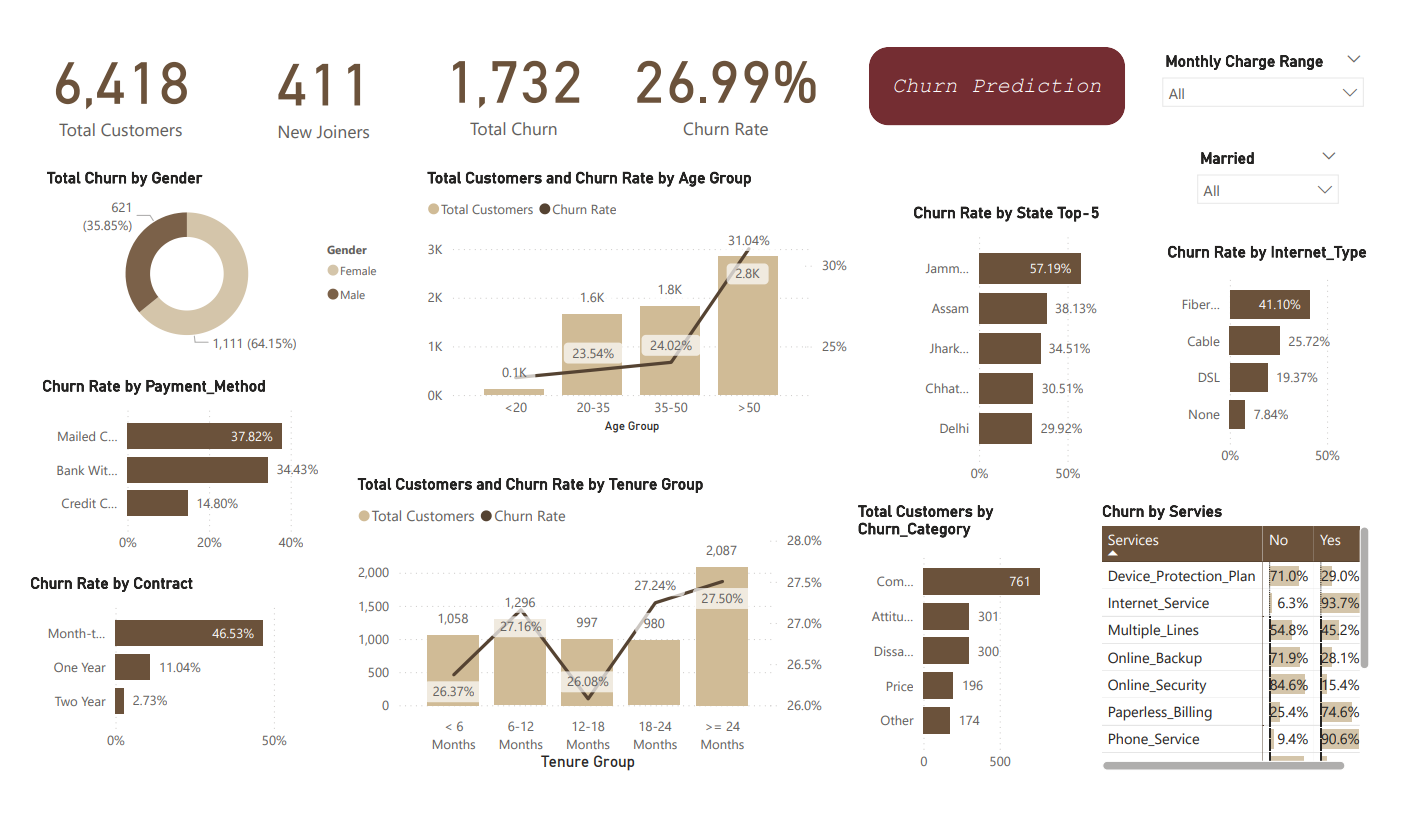

Layout of this report page (visuals, bound fields, positions):
{"tool":"powerbi","page":{"name":"Summary","canvas":[1280,720],"ordinal":0},"visuals":[{"type":"card","fields":{"Values":["tbl_Measures.Total Customers"]},"box":[20,15.7,175.7,104.3],"z":0},{"type":"card","fields":{"Values":["tbl_Measures.New Joiners"]},"box":[204.3,18.6,180,101.4],"z":1000},{"type":"card","fields":{"Values":["tbl_Measures.Total Churn"]},"box":[384.3,14.3,168.6,105.7],"z":2000},{"type":"donutChart","fields":{"Category":["prod_Churn.Gender"],"Y":["tbl_Measures.Total Churn"]},"box":[35,142.5,322.5,175],"z":3000},{"type":"lineStackedColumnComboChart","fields":{"Category":["mapping_AgeGrp.Age Group"],"Y":["tbl_Measures.Total Customers"],"Y2":["tbl_Measures.Churn Rate"]},"box":[383.8,142.5,395,247.5],"z":4000},{"type":"clusteredBarChart","fields":{"Category":["prod_Churn.Payment_Method"],"Y":["tbl_Measures.Churn Rate"]},"box":[31.2,333.8,280,170],"z":5000},{"type":"clusteredBarChart","fields":{"Category":["prod_Churn.Contract"],"Y":["tbl_Measures.Churn Rate"]},"box":[20,515,280,170],"z":6000},{"type":"lineStackedColumnComboChart","fields":{"Category":["mapping_TenureGroup.Tenure Group"],"Y":["tbl_Measures.Total Customers"],"Y2":["tbl_Measures.Churn Rate"]},"box":[320,423.8,436.2,276.2],"z":7000},{"type":"clusteredBarChart","title":"Churn Rate by State Top-5","fields":{"Category":["prod_Churn.State"],"Y":["tbl_Measures.Churn Rate"]},"box":[830,175,210,265],"z":8000},{"type":"clusteredBarChart","fields":{"Category":["prod_Churn.Churn_Category"],"Y":["tbl_Measures.Total Customers"]},"box":[778.8,448.8,210,255],"z":9000},{"type":"clusteredBarChart","fields":{"Category":["prod_Churn.Internet_Type"],"Y":["tbl_Measures.Churn Rate"]},"box":[1062.5,211.2,195,212.5],"z":10000},{"type":"card","fields":{"Values":["tbl_Measures.Churn Rate"]},"box":[570,14.3,185.7,105.7],"z":11000},{"type":"pivotTable","title":"Churn by Servies","fields":{"Rows":["prod_Services.Services"],"Columns":["prod_Services.Status"],"Values":["Sum(prod_Services.Churn Status)"]},"box":[1002.5,448.8,255,251.2],"z":12000},{"type":"slicer","fields":{"Values":["prod_Churn.Monthly Charge Status"]},"box":[1052.5,31.2,205,71.2],"z":13000},{"type":"slicer","fields":{"Values":["prod_Churn.Married"]},"box":[1085,120,150,68.8],"z":14000},{"type":"shape","box":[794.3,31.4,234.3,71.4],"z":15000}]}

Visuals, with their boxes in screenshot pixels (x1, y1, x2, y2), scaled from the page's 1280x720 canvas onto the 1412x815 screenshot:
card - tbl_Measures.Total Customers: (22,18,216,136)
card - tbl_Measures.New Joiners: (225,21,424,136)
card - tbl_Measures.Total Churn: (424,16,610,136)
donutChart - prod_Churn.Gender x tbl_Measures.Total Churn: (39,161,394,359)
lineStackedColumnComboChart - mapping_AgeGrp.Age Group x tbl_Measures.Total Customers: (423,161,859,441)
clusteredBarChart - prod_Churn.Payment_Method x tbl_Measures.Churn Rate: (34,378,343,570)
clusteredBarChart - prod_Churn.Contract x tbl_Measures.Churn Rate: (22,583,331,775)
lineStackedColumnComboChart - mapping_TenureGroup.Tenure Group x tbl_Measures.Total Customers: (353,480,834,792)
"Churn Rate by State Top-5" clusteredBarChart: (916,198,1147,498)
clusteredBarChart - prod_Churn.Churn_Category x tbl_Measures.Total Customers: (859,508,1091,797)
clusteredBarChart - prod_Churn.Internet_Type x tbl_Measures.Churn Rate: (1172,239,1387,480)
card - tbl_Measures.Churn Rate: (629,16,834,136)
"Churn by Servies" pivotTable: (1106,508,1387,792)
slicer - prod_Churn.Monthly Charge Status: (1161,35,1387,116)
slicer - prod_Churn.Married: (1197,136,1362,214)
shape: (876,36,1135,116)
